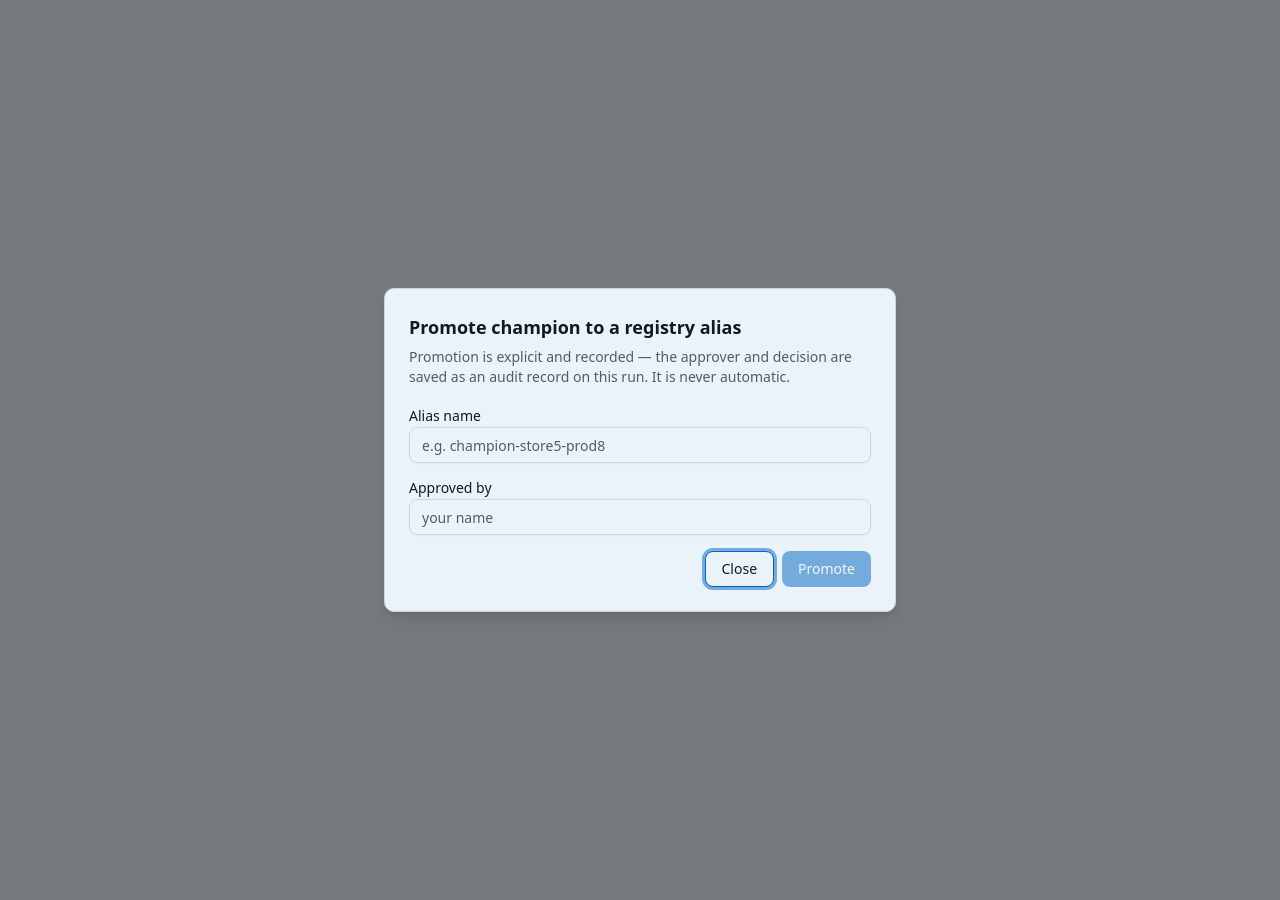
PromoteChampionDialog › keeps confirm disabled until alias + approver are valid
Expected: the button with test id "promote-confirm-action" is disabled, [782,551,871,587]
Type "champion-x" into the field with test id "promote-alias-input".
click(640, 445); type("champion-x")  # box [409,427,871,463]
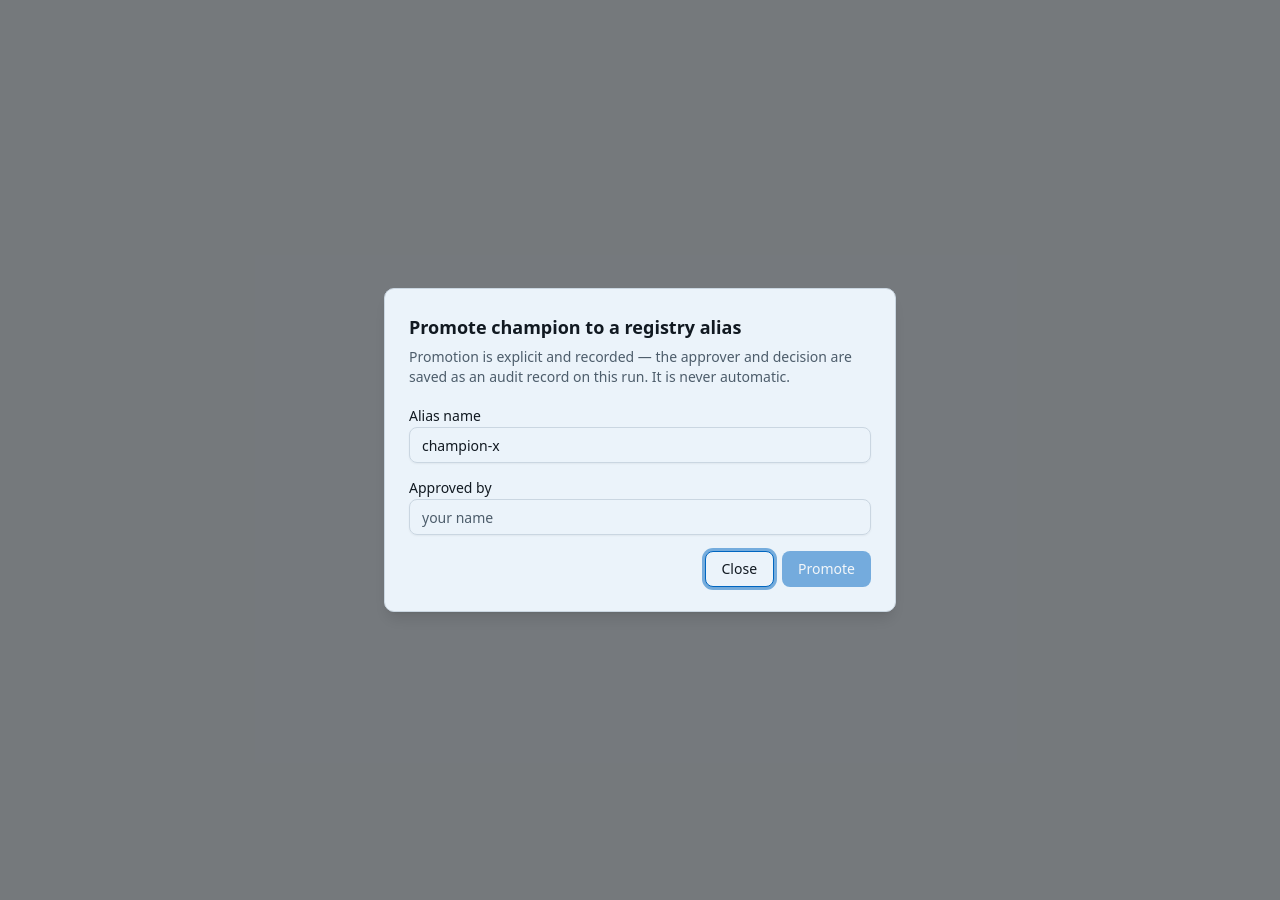
Type "gabor" into the field with test id "promote-approver-input".
click(640, 517); type("gabor")  # box [409,499,871,535]
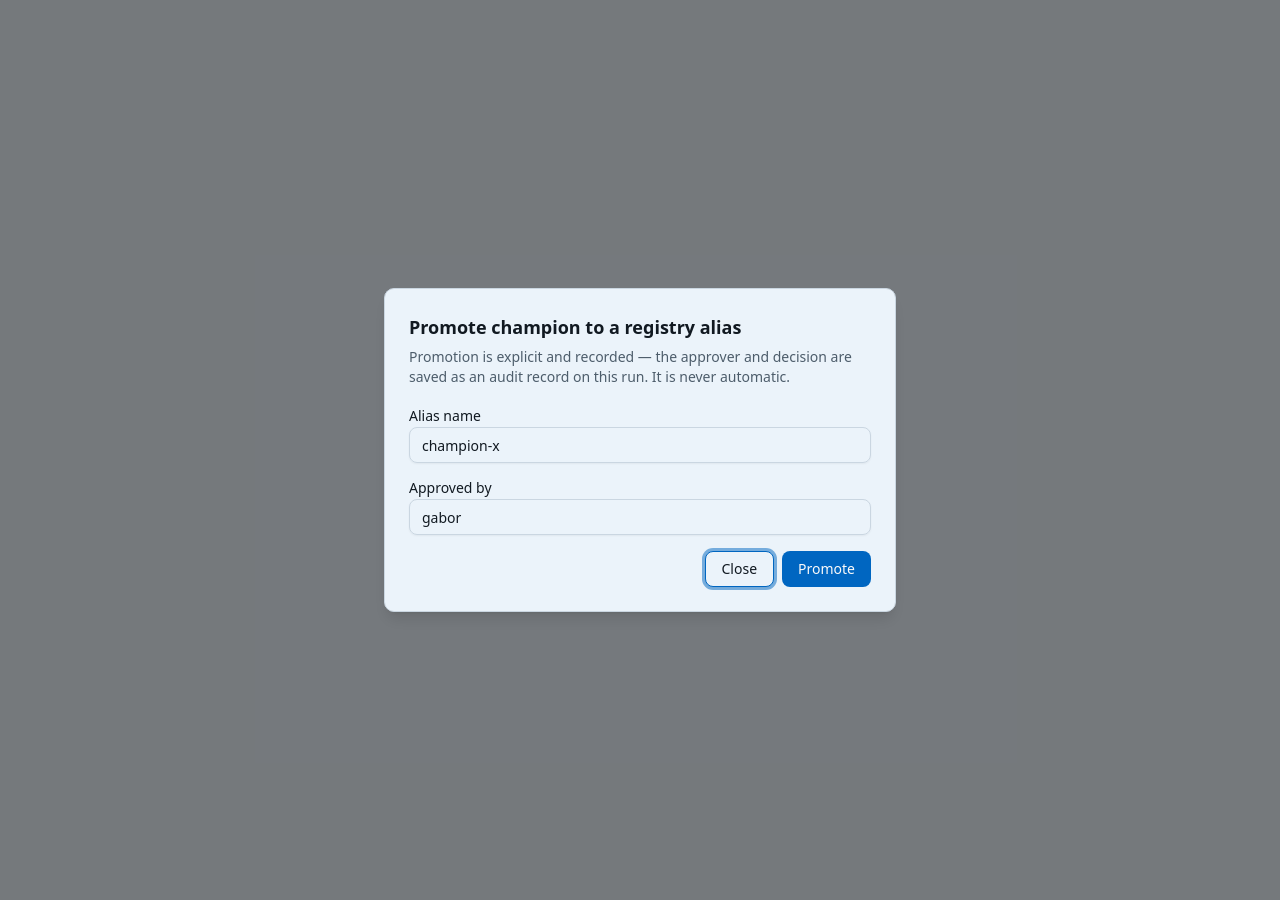
Expected: the button with test id "promote-confirm-action" is enabled, [782,551,871,587]
